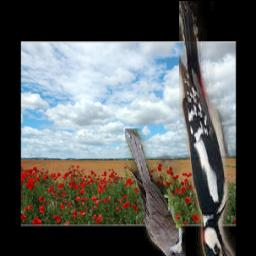Cuckoo: (125, 129, 186, 256)
Woodpecker: (180, 1, 237, 256)
